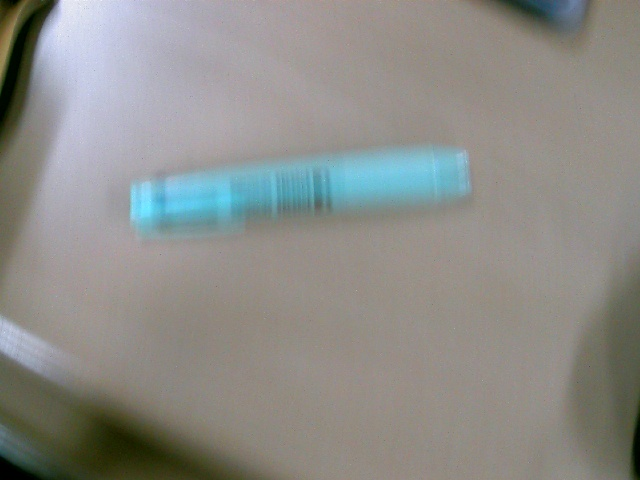pen: (111, 126, 492, 274)
